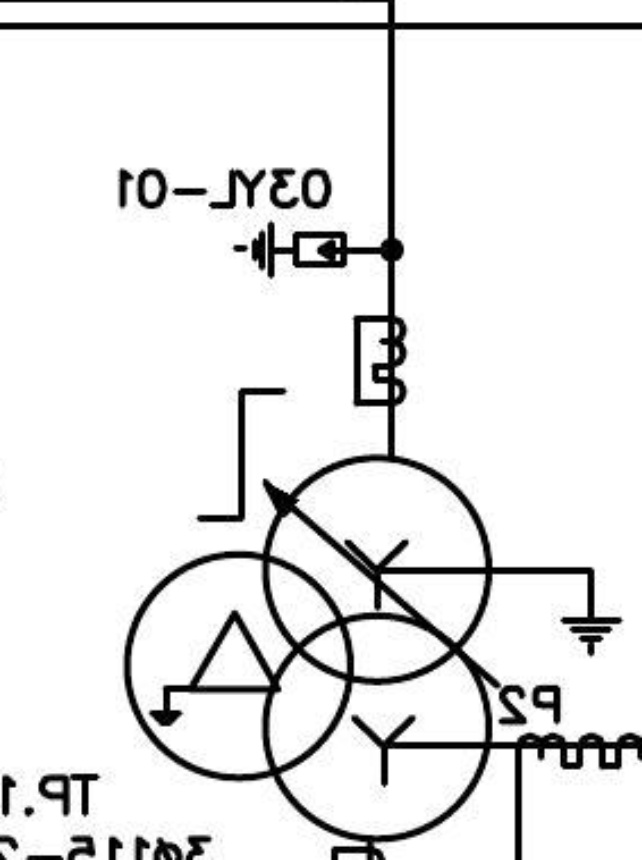11522_tx_ynyn0d1: (120, 452, 494, 845)
115_la: (232, 219, 349, 280)
